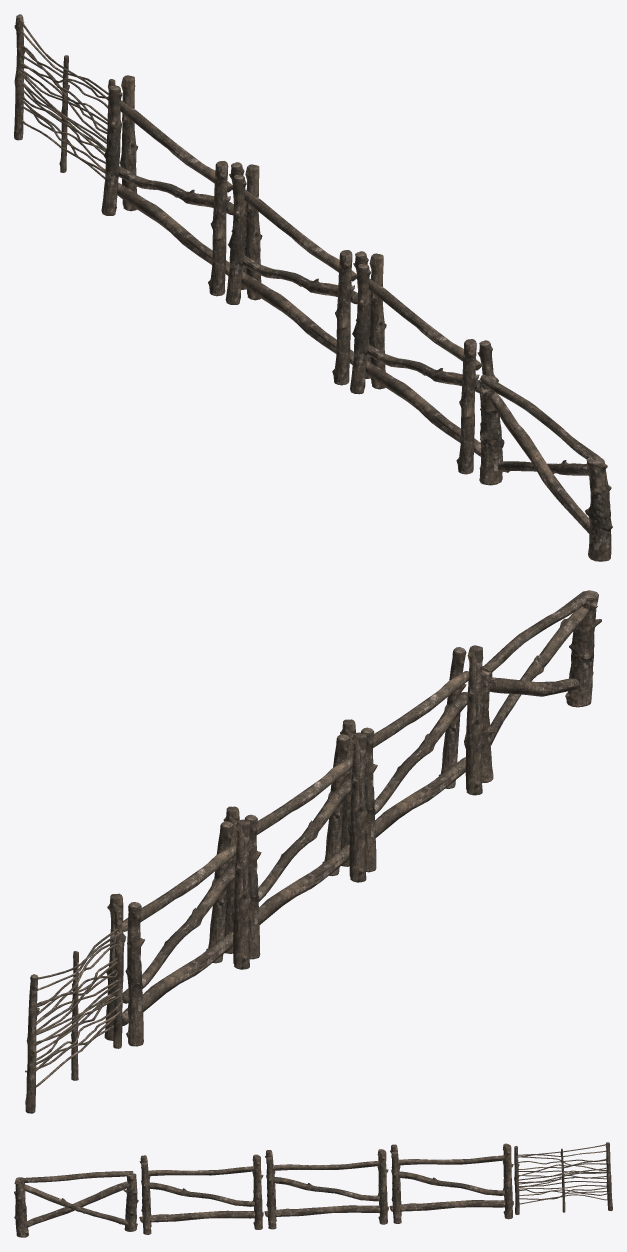
File: SM_Fence_01b_Splines_29.fbx
3 views of the same model, one above another, from view 1: azimuth 30°, elevation 25°; view 2: azimuth 150°, elevation 25°; view 3: azimuth 270°, elevation 25° (orthographic). The views are drawn at different scales.
Parts seen in each view (by area): view 1: SM_Fence_01b_Splines_23_LOD0; view 2: SM_Fence_01b_Splines_23_LOD0; view 3: SM_Fence_01b_Splines_23_LOD0.
Boxes of the visible parts, bbox=[...] form: SM_Fence_01b_Splines_23_LOD0: bbox=[14, 14, 612, 561]; SM_Fence_01b_Splines_23_LOD0: bbox=[25, 590, 601, 1113]; SM_Fence_01b_Splines_23_LOD0: bbox=[14, 1142, 612, 1237].
Bounding box in the file's own units: 65.26 × 1062 × 165.
